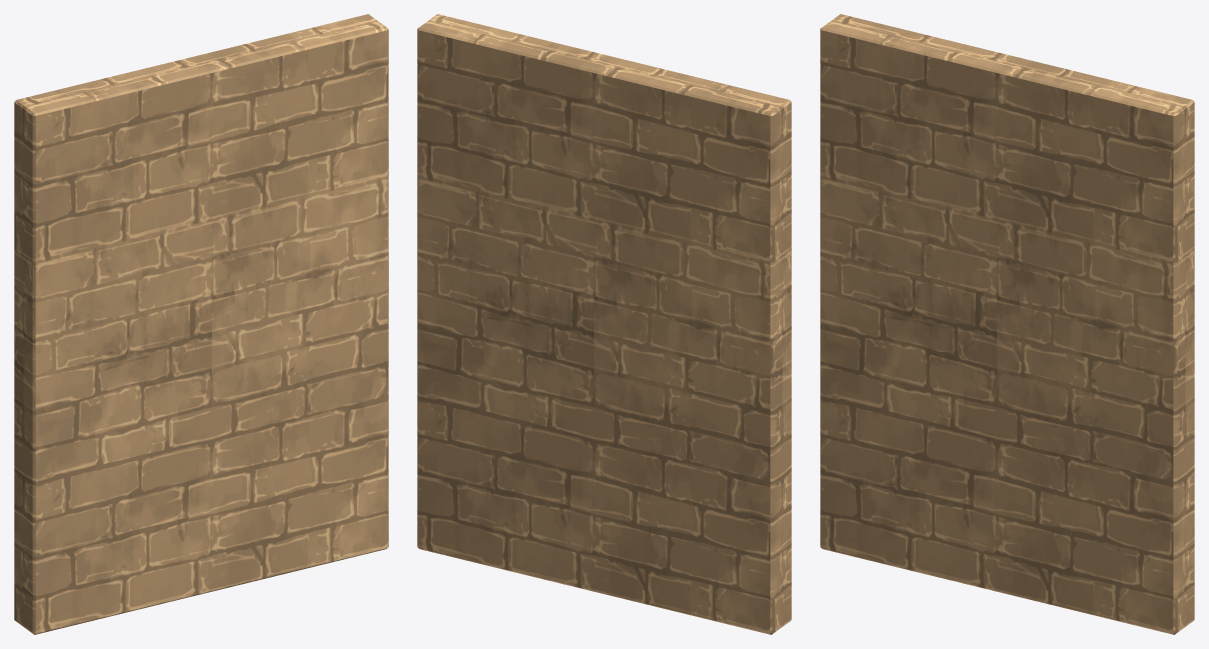
The model's file is wall_2m.gltf.
3 renders of one model, left to right at view 1: azimuth 30°, elevation 25°; view 2: azimuth 150°, elevation 25°; view 3: azimuth 330°, elevation 25°, orthographic.
Parts seen in each view (by area): view 1: wall_2m; view 2: wall_2m; view 3: wall_2m.
Part boxes in pixels (x1=…): wall_2m: x1=14, y1=14, x2=388, y2=634; wall_2m: x1=417, y1=14, x2=791, y2=634; wall_2m: x1=820, y1=14, x2=1194, y2=634.
Size of the model in its own units: 2 by 2.8 by 0.2.
Materials: 1 (1 with a texture image).
